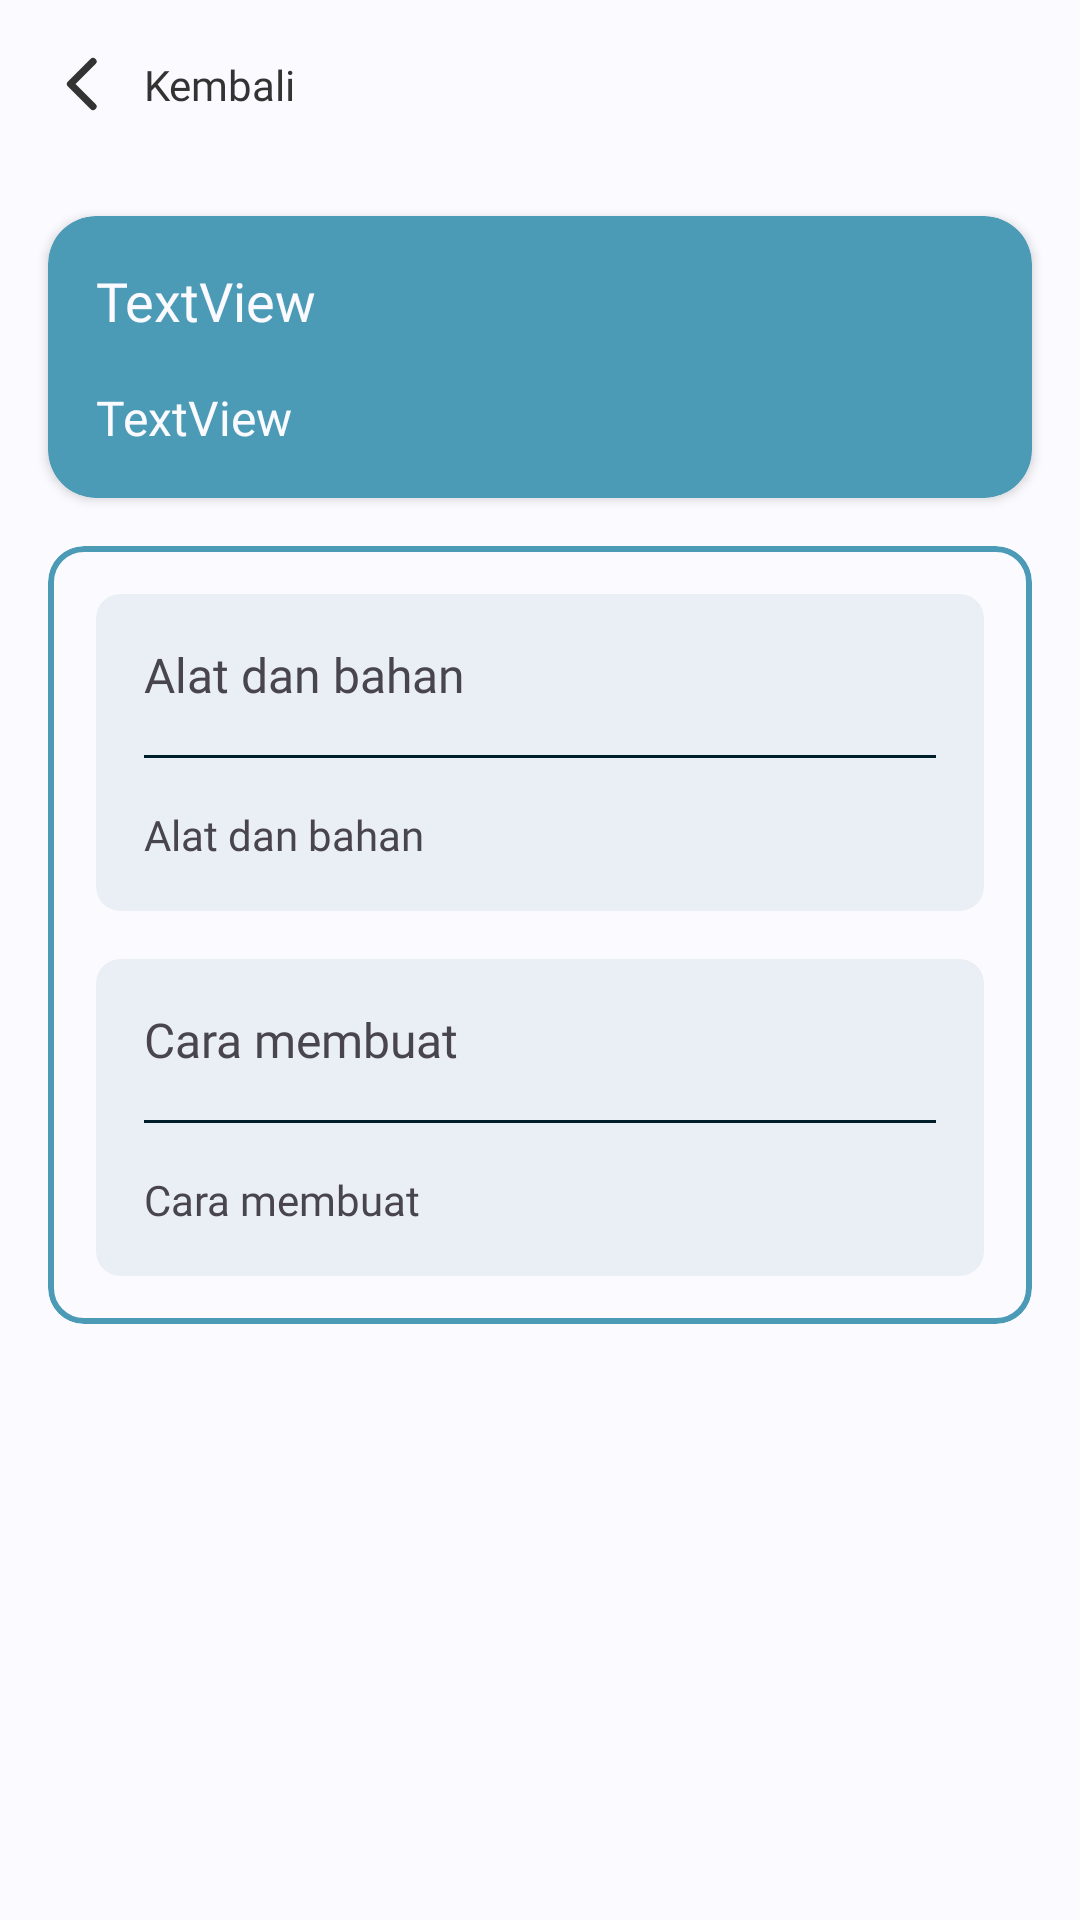

Screen size 1080w x 1920h. Icon name, then its box in pixels as (x1, y1, x2, y2):
caretleft: (66, 57, 97, 111)
